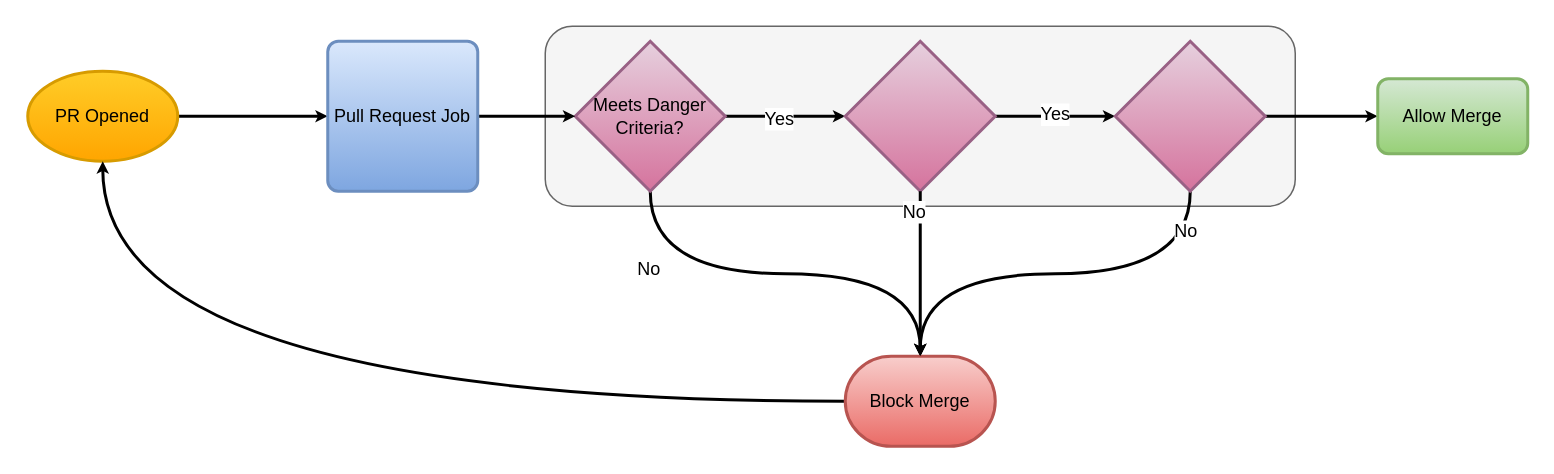
Image size: 1554x474. Some labels were removed from this diagram. Here are the shapes that lost their labels. From the top down, the centre of each, then its label:
At (919,115): "Builds?".
At (1189,115): "Unit Tests Pass?".
